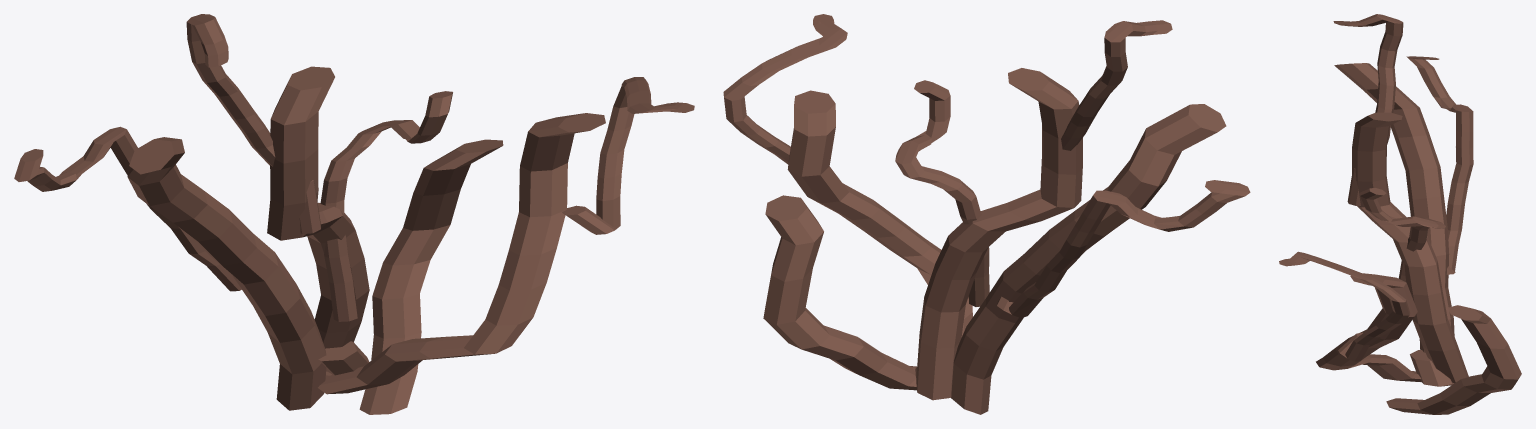
The model's file is dead_bush.fbx.
3 views of the same model, side by side, from view 1: azimuth 30°, elevation 25°; view 2: azimuth 150°, elevation 25°; view 3: azimuth 270°, elevation 25° (orthographic). The views are drawn at different scales.
Parts seen in each view (by area): view 1: group_2095707562; view 2: group_2095707562; view 3: group_2095707562.
Boxes of the visible parts, box(x1,y1,x2,y2) form: group_2095707562: box(14, 14, 694, 414); group_2095707562: box(723, 14, 1250, 414); group_2095707562: box(1279, 14, 1521, 414).
Size of the model in its own units: 28.36 by 19.8 by 13.42.
